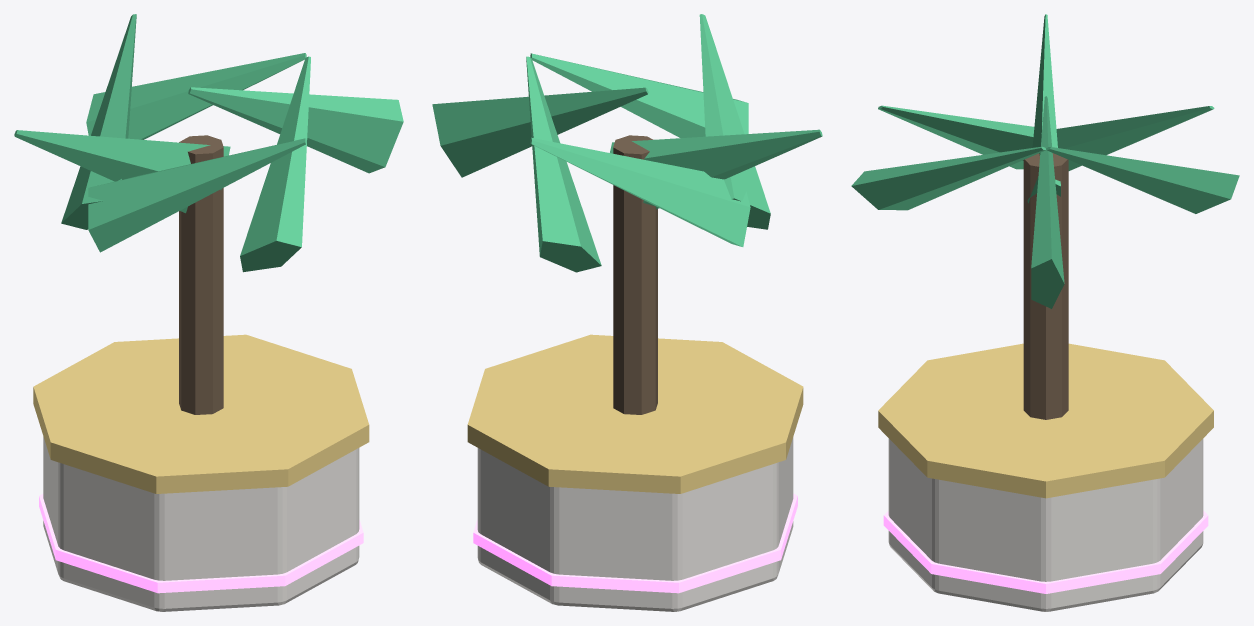
File: planter_mall.glb
3 renders of one model, left to right at view 1: azimuth 30°, elevation 25°; view 2: azimuth 150°, elevation 25°; view 3: azimuth 270°, elevation 25°, orthographic. The views are drawn at different scales.
Visible parts, largest first — view 1: Cylinder.001, Cylinder, Cylinder.004, Cone, Cone.004, Cone.005, Cone.001, Cone.003, Cylinder.002, Cone.002; view 2: Cylinder.001, Cylinder, Cylinder.004, Cone, Cone.002, Cone.001, Cone.005, Cone.003, Cylinder.002, Cone.004; view 3: Cylinder.001, Cylinder, Cylinder.004, Cone.005, Cone.001, Cylinder.002, Cone, Cone.004, Cone.002, Cone.003.
Boxes of the visible parts, bbox=[...] form: Cylinder.001: bbox=[33, 334, 369, 493]; Cylinder: bbox=[43, 437, 359, 611]; Cylinder.004: bbox=[179, 135, 223, 414]; Cone: bbox=[188, 87, 403, 173]; Cone.004: bbox=[88, 138, 306, 252]; Cone.005: bbox=[240, 56, 310, 272]; Cone.001: bbox=[86, 53, 306, 139]; Cone.003: bbox=[14, 130, 230, 213]; Cylinder.002: bbox=[39, 494, 363, 593]; Cone.002: bbox=[61, 14, 136, 229]; Cylinder.001: bbox=[467, 334, 803, 493]; Cylinder: bbox=[477, 437, 793, 611]; Cylinder.004: bbox=[613, 135, 657, 414]; Cone: bbox=[432, 87, 648, 177]; Cone.002: bbox=[530, 137, 750, 246]; Cone.001: bbox=[526, 56, 601, 272]; Cone.005: bbox=[530, 53, 748, 138]; Cone.003: bbox=[610, 129, 822, 209]; Cylinder.002: bbox=[473, 493, 797, 593]; Cone.004: bbox=[699, 14, 770, 229]; Cylinder.001: bbox=[878, 343, 1213, 498]; Cylinder: bbox=[888, 438, 1203, 611]; Cylinder.004: bbox=[1023, 153, 1068, 419]; Cone.005: bbox=[851, 146, 1045, 210]; Cone.001: bbox=[1046, 147, 1239, 213]; Cylinder.002: bbox=[883, 510, 1208, 593]; Cone: bbox=[1031, 96, 1064, 308]; Cone.004: bbox=[878, 105, 1034, 169]; Cone.002: bbox=[1056, 106, 1214, 170]; Cone.003: bbox=[1027, 14, 1060, 203].
Bounding box in the file's own units: 2.31 × 2.67 × 2.08.
